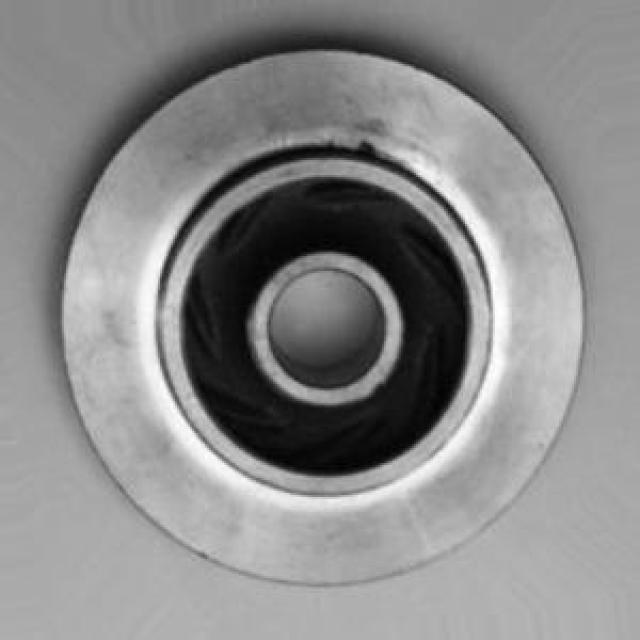Defect: (346, 126, 399, 164)
